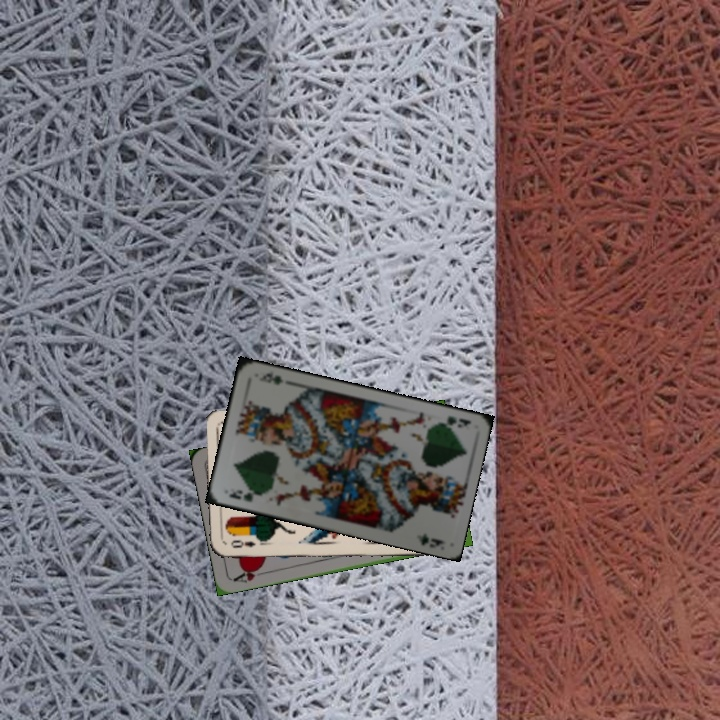EO: (227, 536, 258, 550)
GK: (433, 412, 474, 430), (225, 486, 256, 505)
HA: (229, 562, 270, 586)
